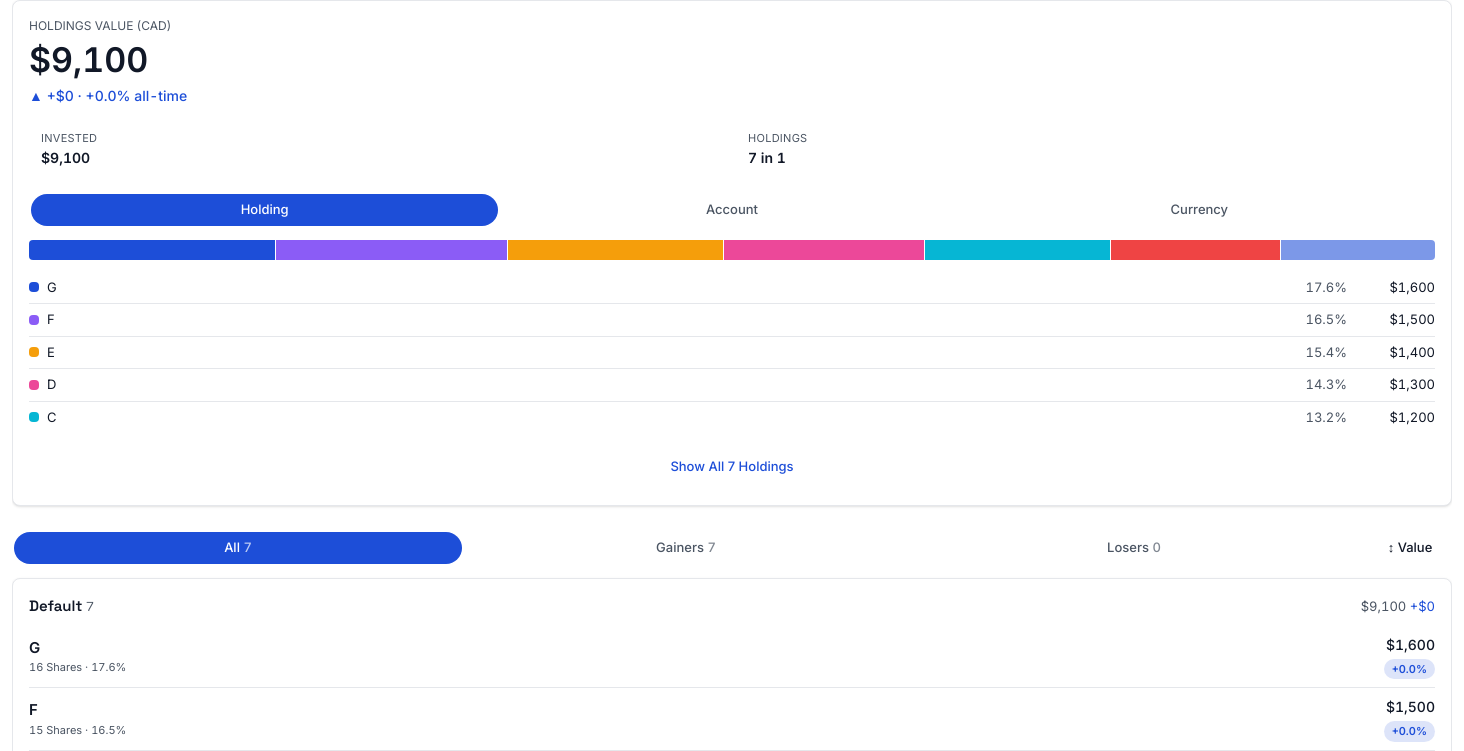
Test: phone Portfolio › caps the allocation legend at five and offers the rest
Expected: the number of list items is 5, top-left (29, 272), bottom-right (1435, 304); top-left (29, 304), bottom-right (1435, 336); top-left (29, 336), bottom-right (1435, 369); top-left (29, 369), bottom-right (1435, 402); top-left (29, 408), bottom-right (1435, 424)
Click the button "Show All 7 Holdings": (732, 467) top-left (29, 445), bottom-right (1435, 489)
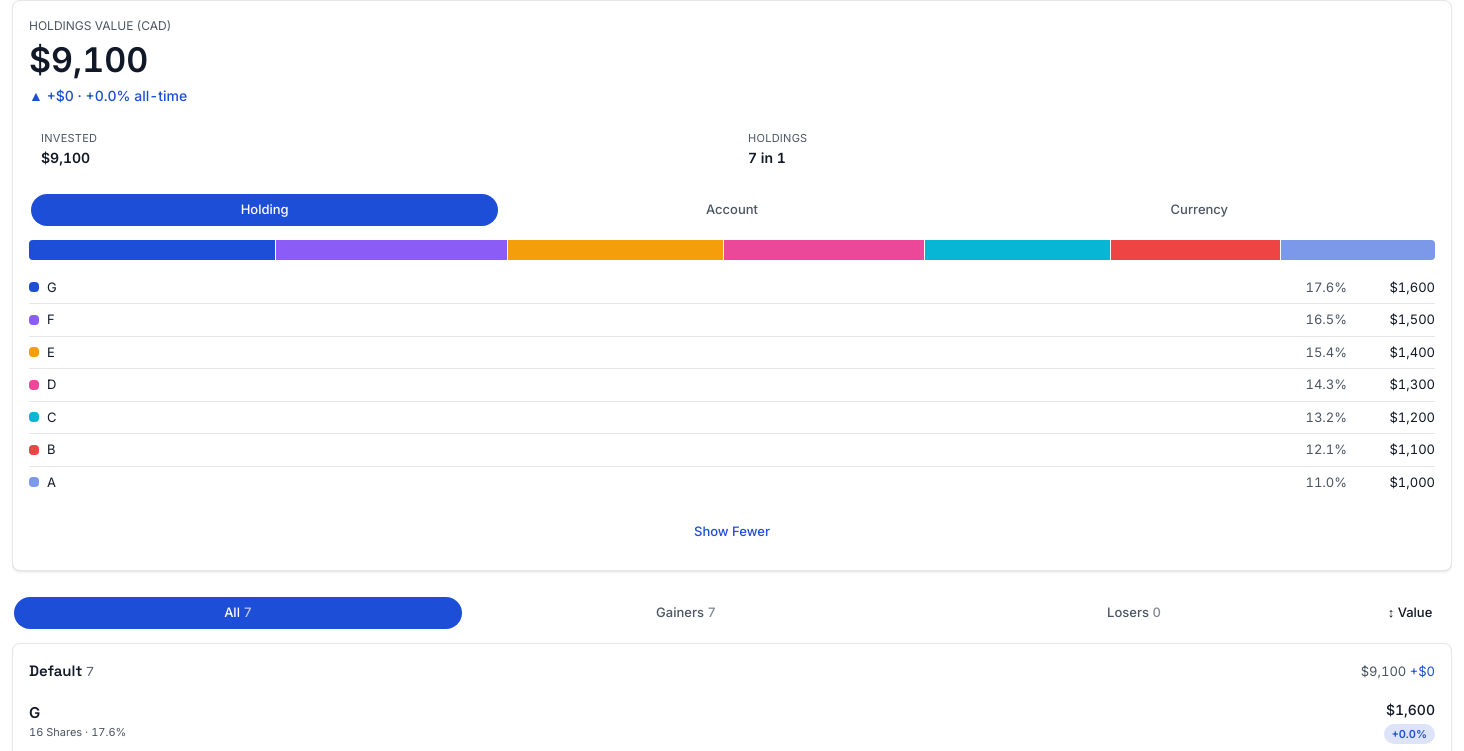
Expected: the number of list items is 7
